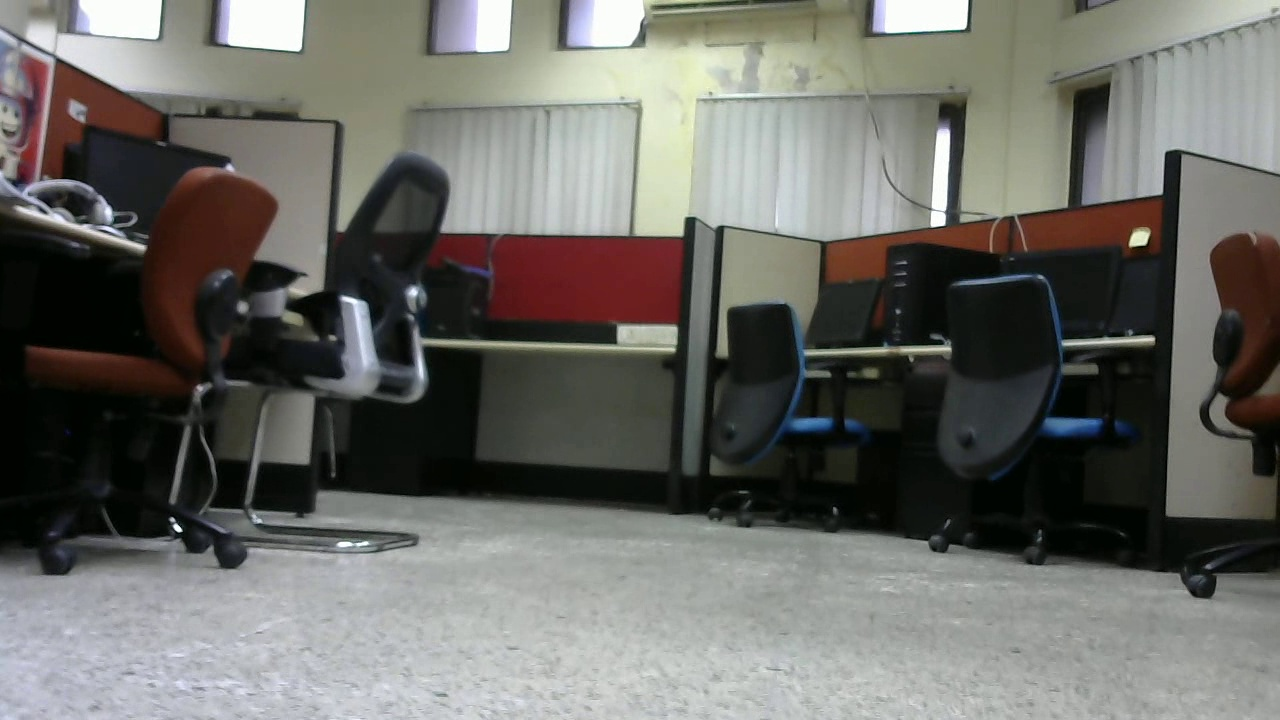chair: (19, 163, 275, 573), (277, 150, 451, 556), (925, 274, 1145, 572), (699, 302, 879, 541)
